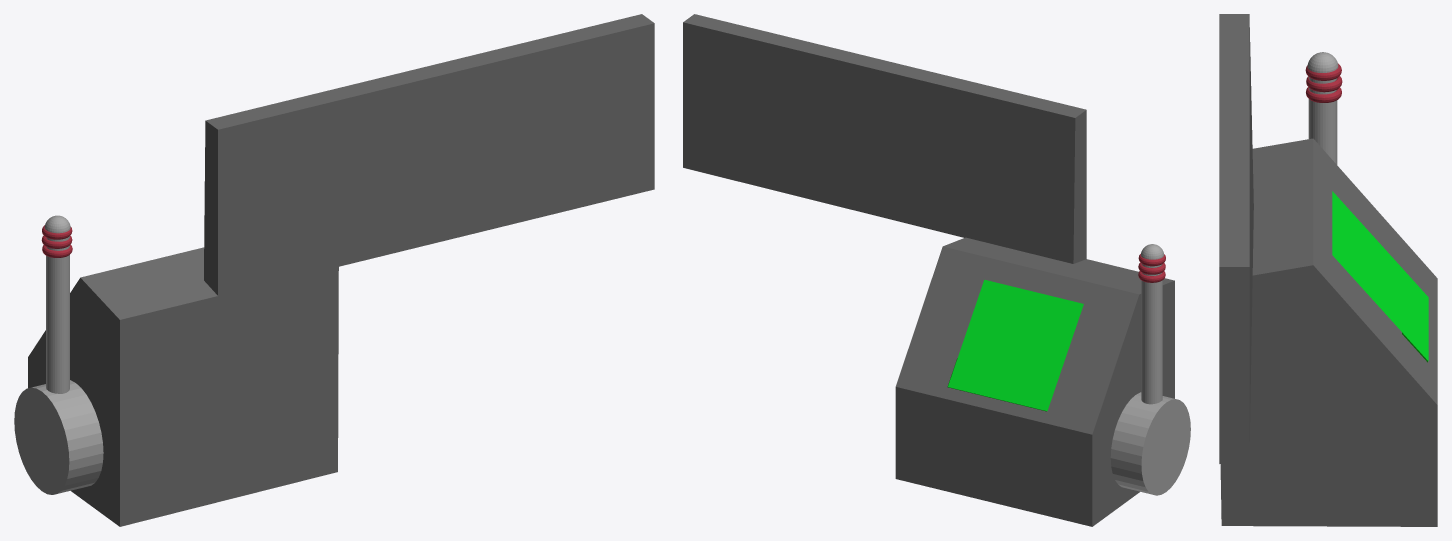
File: panel-test.fbx
The picture shows the model from 3 angles, left to right: view 1: azimuth 30°, elevation 25°; view 2: azimuth 150°, elevation 25°; view 3: azimuth 270°, elevation 25°; orthographic projection. The views are drawn at different scales.
Visible parts, largest first — view 1: Cube.001, Panel.001, Cylinder.002, Sphere.001; view 2: Cube.001, Panel.001, Cylinder.002, Sphere.001, squares.006, squares.014, squares.007, squares.005, squares.012, squares.015, squares.016, squares.001 (+9 smaller); view 3: Panel.001, Cube.001, Sphere.001, Torus, squares.004, squares.009, squares.012, squares.001, squares.002, squares.003, squares.010, squares.011 (+8 smaller).
Boxes of the visible parts, box(x1,y1,x2,y2) form: Cube.001: box(204, 14, 654, 296); Panel.001: box(28, 247, 338, 526); Cylinder.002: box(14, 380, 103, 494); Sphere.001: box(44, 215, 70, 393); Cube.001: box(683, 14, 1086, 263); Panel.001: box(895, 237, 1174, 526); Cylinder.002: box(1110, 392, 1190, 495); Sphere.001: box(1141, 244, 1164, 404); squares.006: box(991, 312, 1024, 345); squares.014: box(973, 366, 1006, 398); squares.007: box(1016, 318, 1049, 351); squares.005: box(966, 306, 999, 339); squares.012: box(1032, 351, 1065, 384); squares.015: box(998, 372, 1031, 404); squares.016: box(1022, 378, 1056, 411); squares.001: box(975, 279, 1008, 312); Panel.001: box(1220, 138, 1437, 526); Cube.001: box(1219, 14, 1253, 463); Sphere.001: box(1307, 52, 1338, 164); Torus: box(1305, 63, 1342, 102); squares.004: box(1332, 191, 1356, 232); squares.009: box(1380, 292, 1404, 334); squares.012: box(1380, 244, 1404, 285); squares.001: box(1332, 239, 1356, 280); squares.002: box(1332, 223, 1356, 264); squares.003: box(1332, 207, 1356, 248); squares.010: box(1380, 276, 1404, 317); squares.011: box(1380, 260, 1404, 301).
Bounding box in the file's own units: 473 × 296 × 132.
